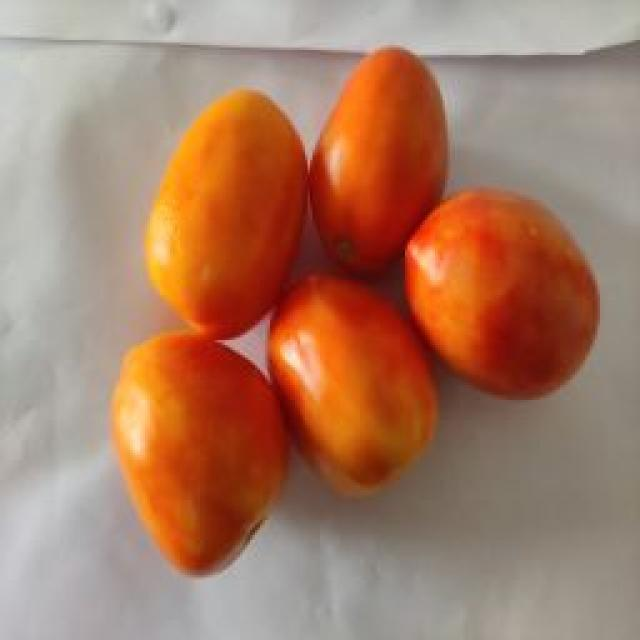tomato: (108, 333, 286, 581), (402, 186, 601, 400), (144, 88, 310, 340), (268, 268, 440, 498), (307, 46, 450, 273)
